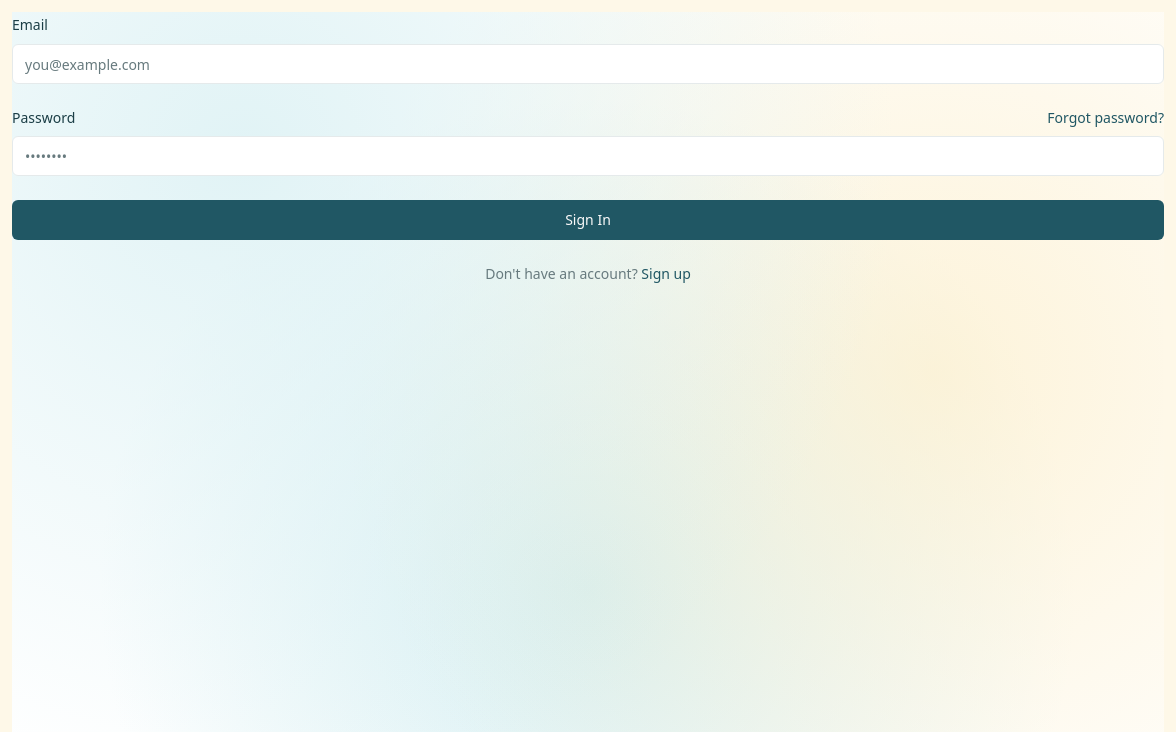
LoginForm › shows validation error for short password
Type "test@example.com" into the field labelled "Email" at coordinates (588, 64), box [12, 44, 1164, 84]
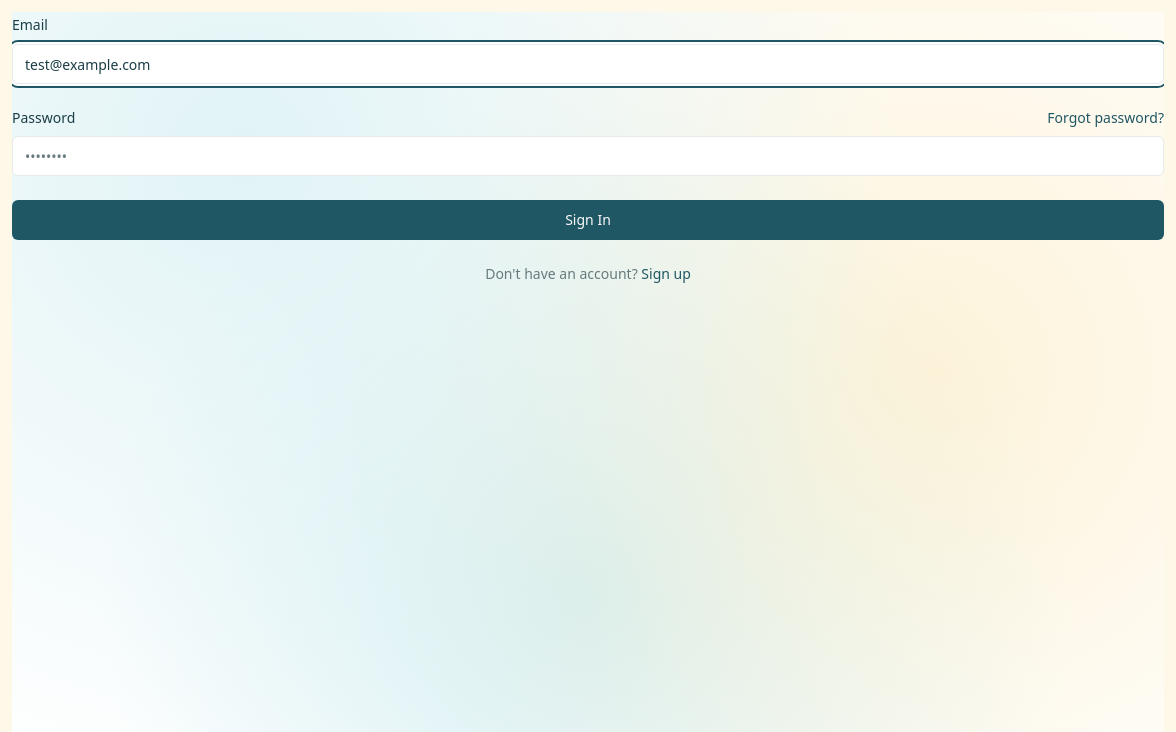
Type "12345" into the password field labelled "Password" at coordinates (588, 156), box [12, 136, 1164, 176]
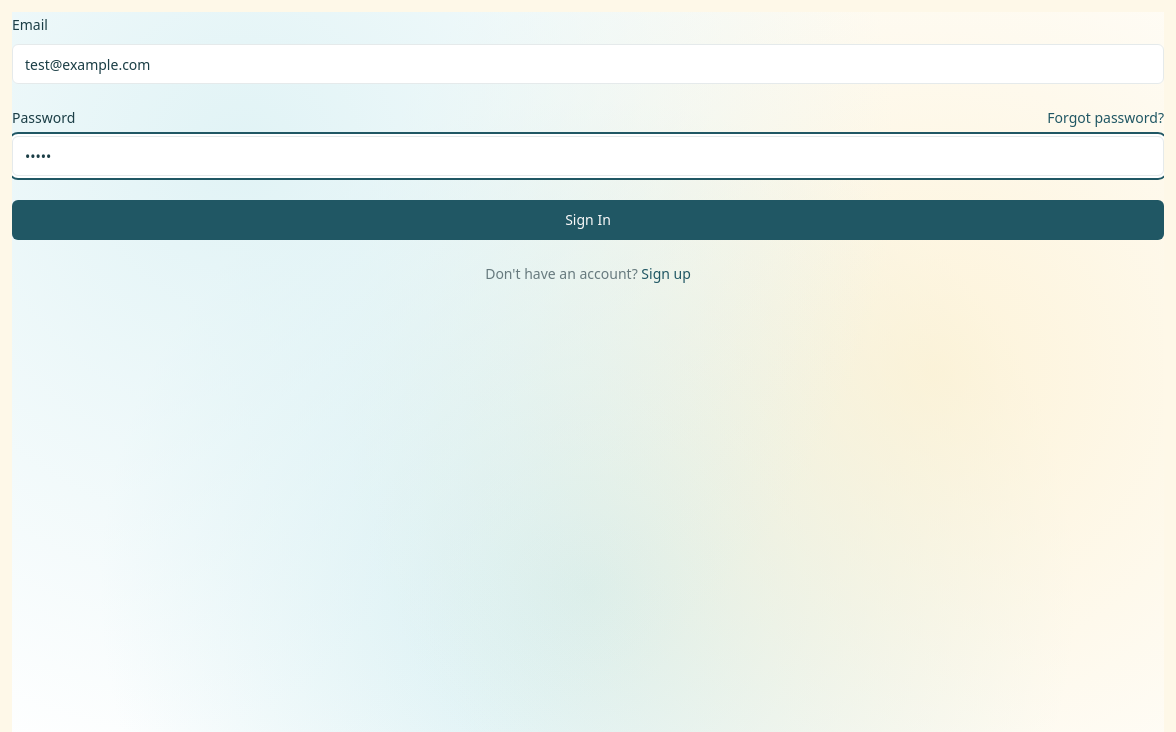
Click the button "Sign In" at coordinates (588, 220), box [12, 200, 1164, 240]
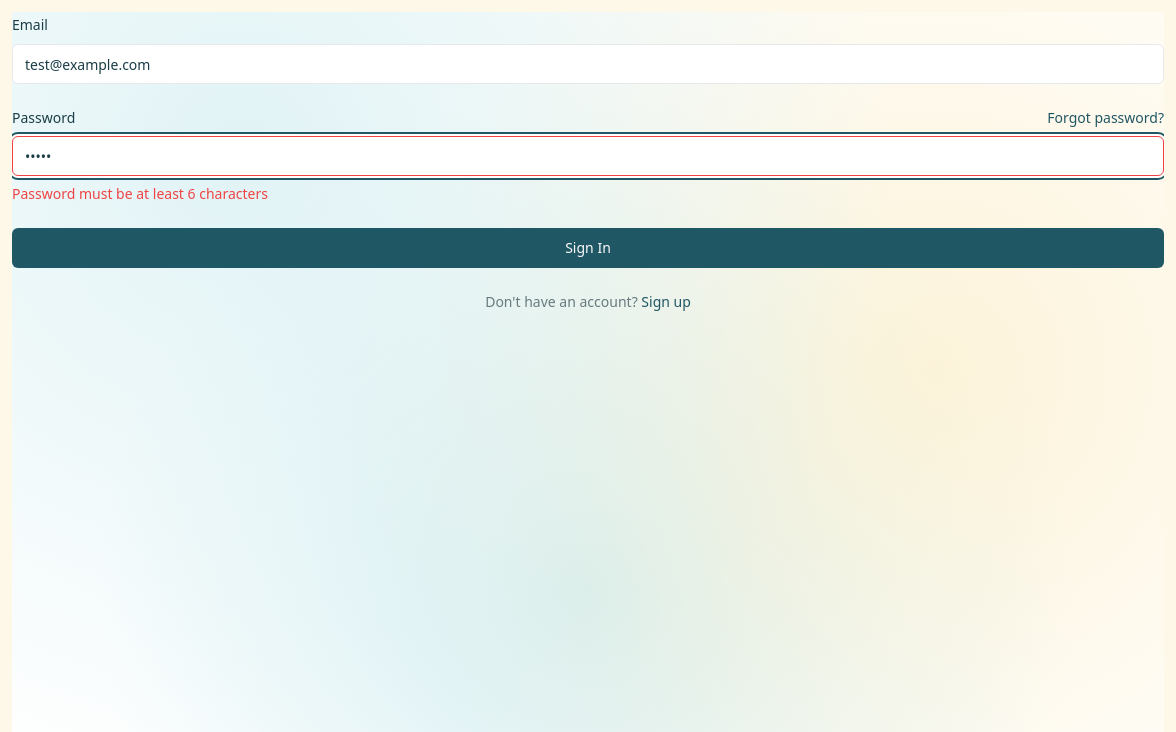
Check: the text "Password must be at least 6 characters" is shown, box [12, 184, 268, 203]
